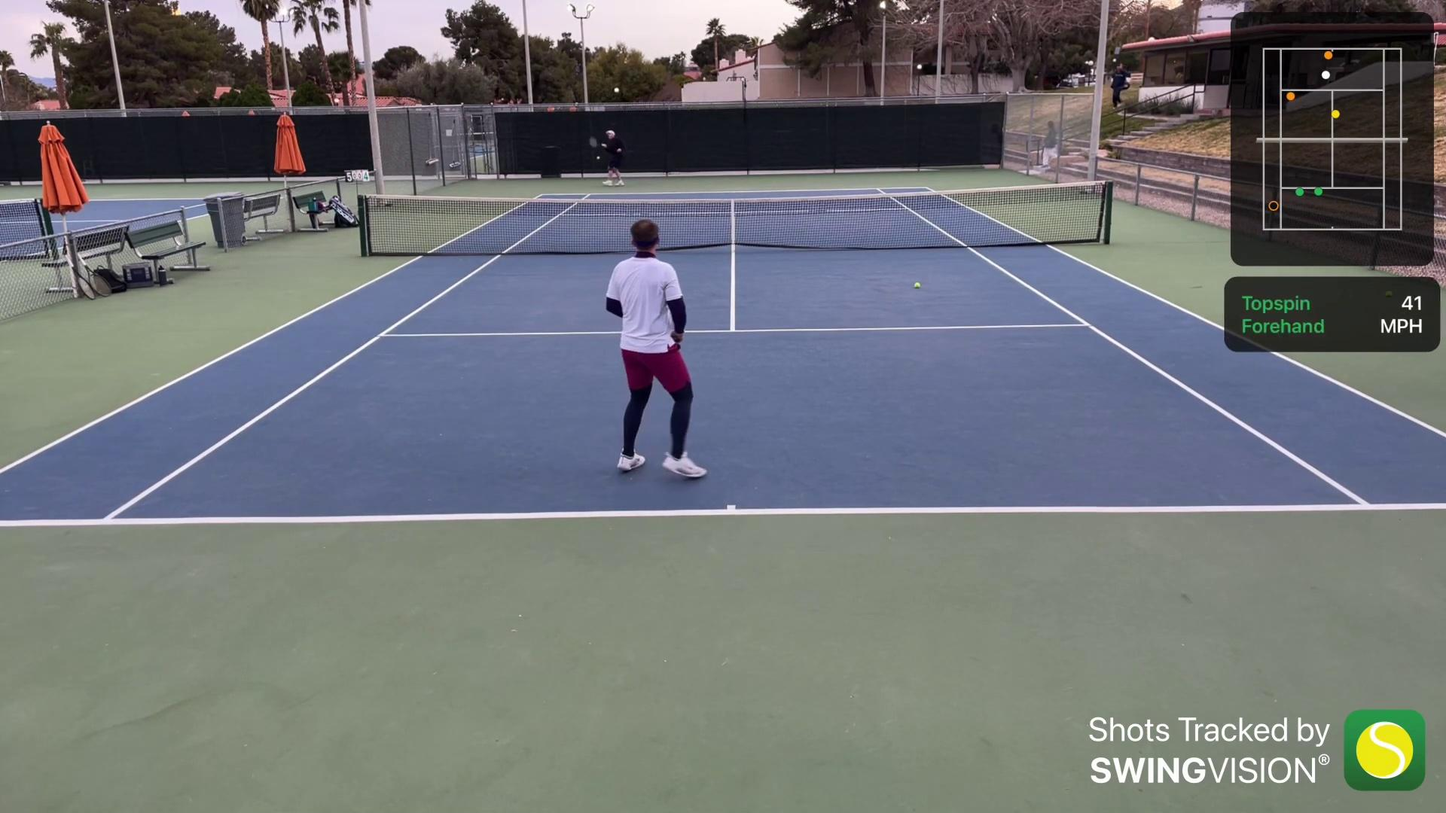ball: (913, 280, 922, 290), (595, 155, 601, 161)
